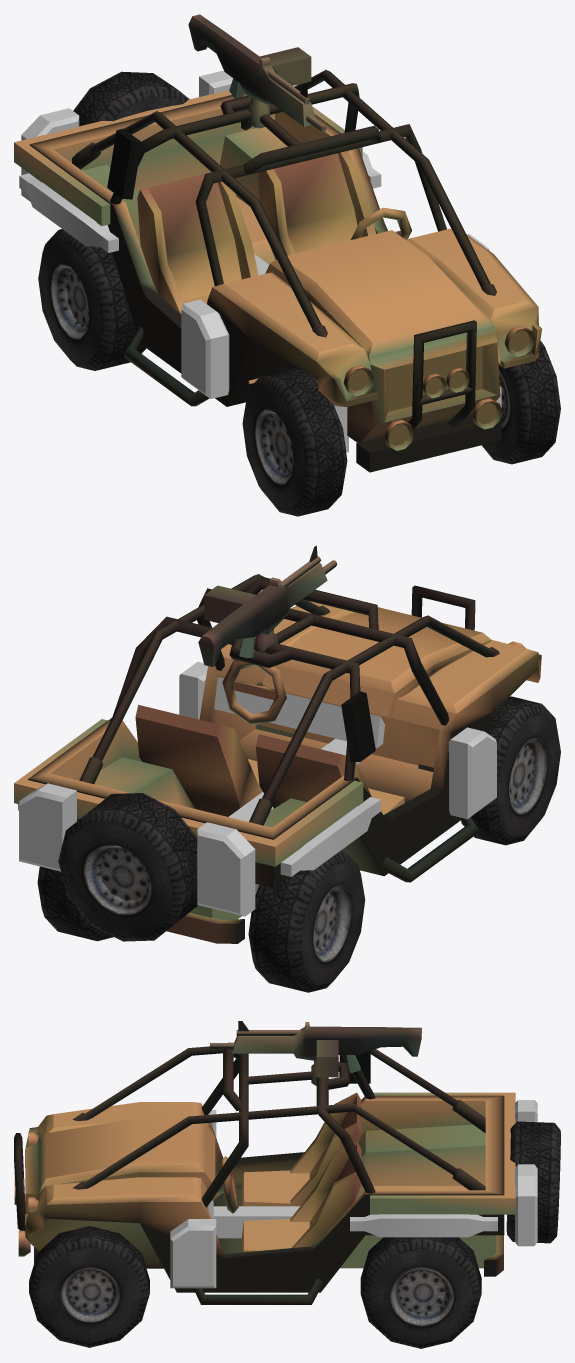
The model's file is Combat_Vehicle102.FBX.
3 views of the same model, one above another, from view 1: azimuth 30°, elevation 25°; view 2: azimuth 150°, elevation 25°; view 3: azimuth 270°, elevation 25° (orthographic). The views are drawn at different scales.
Visible parts, largest first — view 1: V_body, tire; view 2: V_body, tire; view 3: V_body, tire.
Part boxes in pixels (left/top/right/bottom): V_body: left=14, top=14, right=541, bottom=472; tire: left=38, top=71, right=560, bottom=516; V_body: left=14, top=545, right=541, bottom=943; tire: left=37, top=696, right=560, bottom=992; V_body: left=14, top=1021, right=537, bottom=1304; tire: left=29, top=1121, right=560, bottom=1348.
Bounding box in the file's own units: 147 × 159 × 287.
